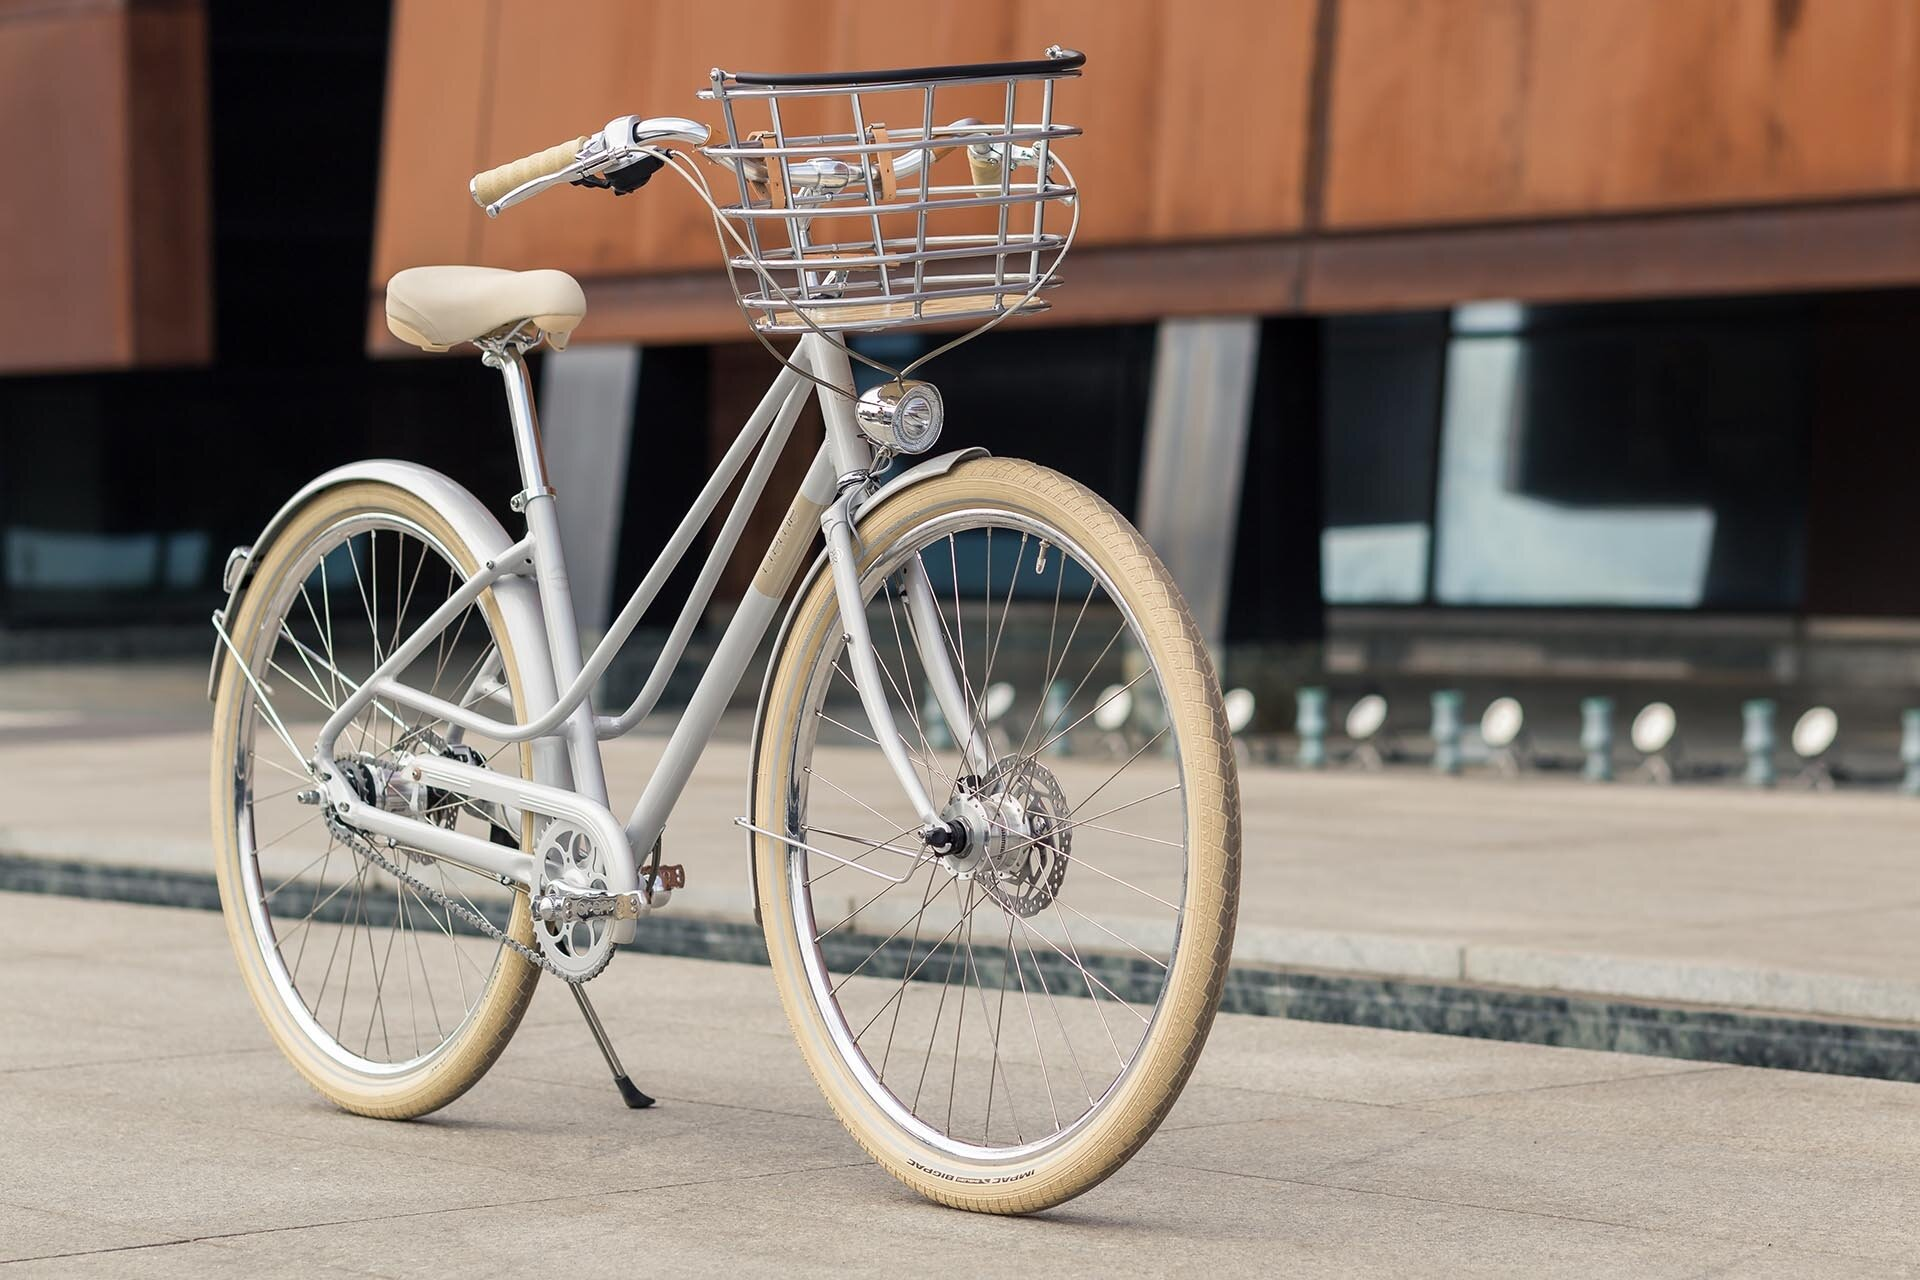bicycle: (196, 40, 1294, 1231)
